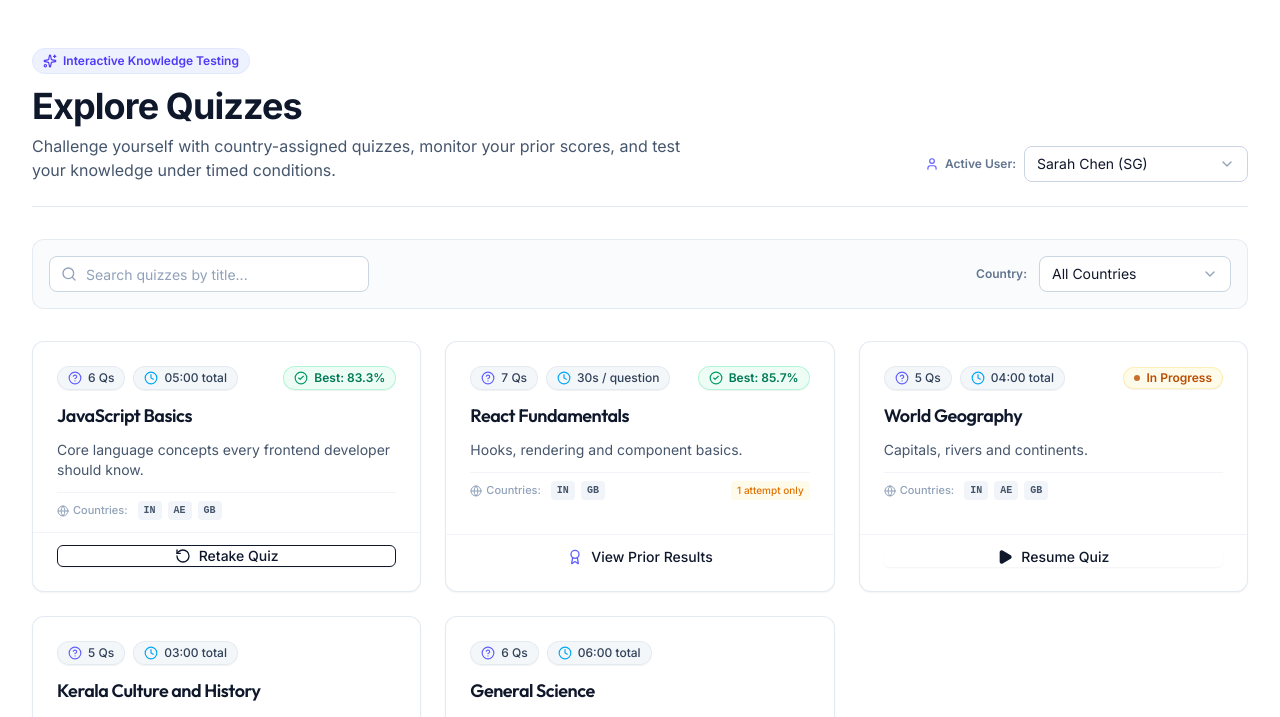
QuizListPage (Task 39) › displays empty state when no quizzes match search and clears filters
Check: the heading "JavaScript Basics" is shown, box x1=57 y1=404 x2=192 y2=427
Type "nonexistent-query-xyz" into the search field labelled "Search quizzes by title..." at (209, 274), box x1=49 y1=256 x2=369 y2=292
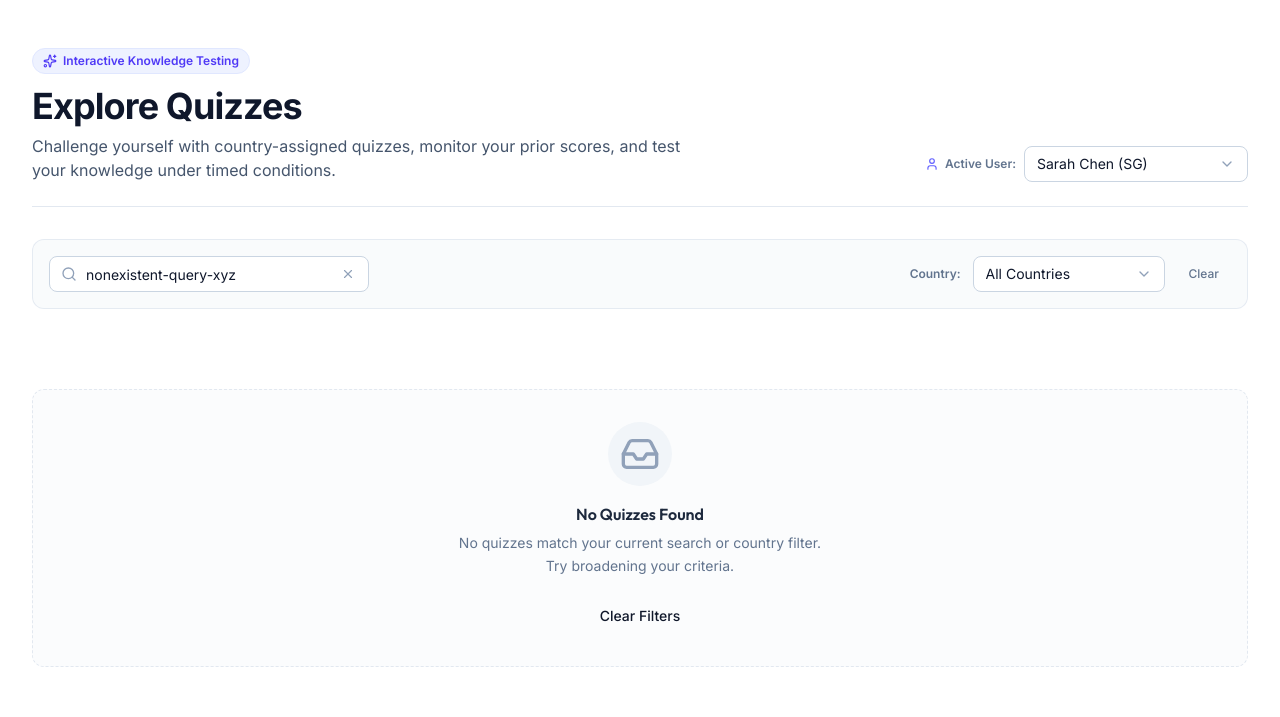
Check: the heading "No Quizzes Found" is shown, box x1=576 y1=502 x2=704 y2=526
Click the button "Clear Filters" at (640, 616), box x1=584 y1=598 x2=696 y2=634
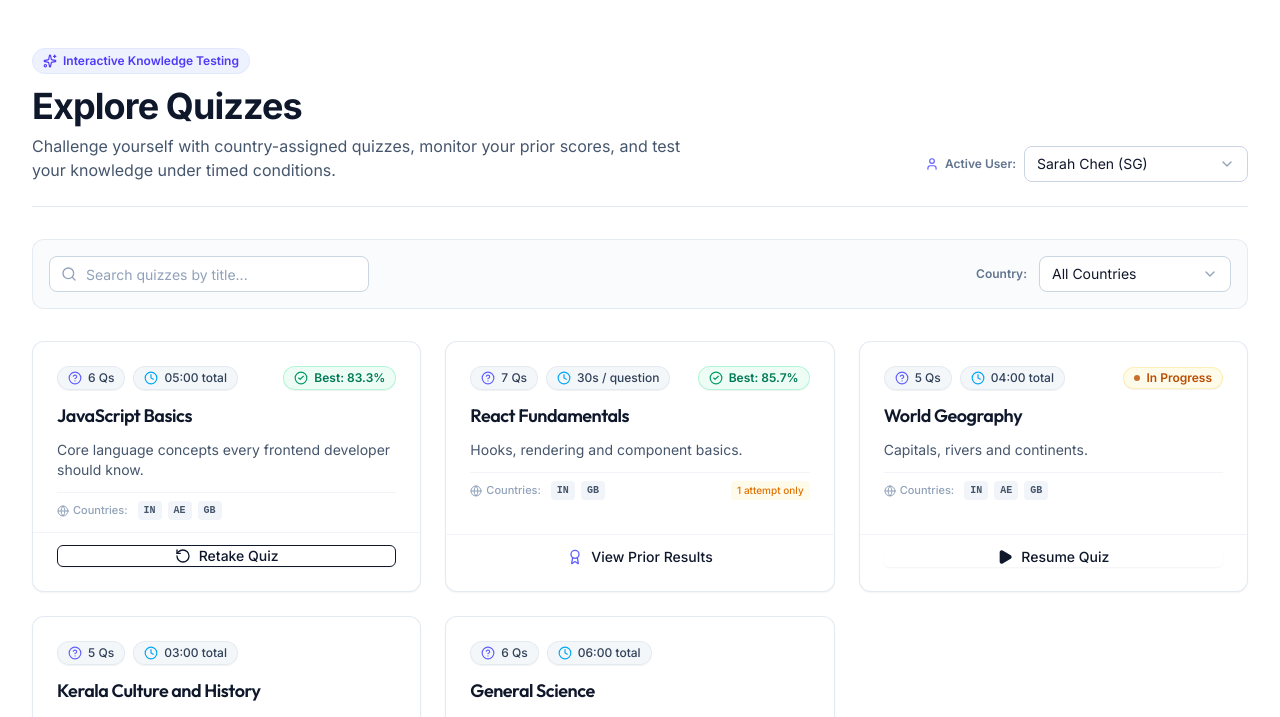
Check: the heading "JavaScript Basics" is shown, box x1=57 y1=404 x2=192 y2=427
